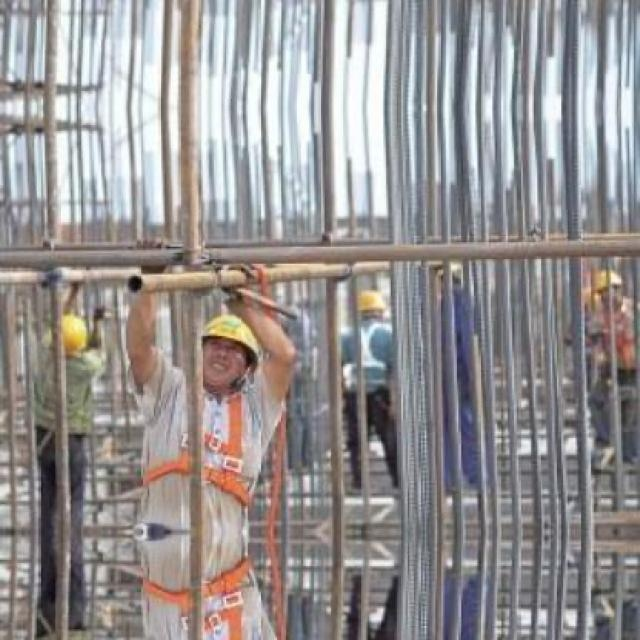Arnes_seguridad: (142, 375, 251, 520)
